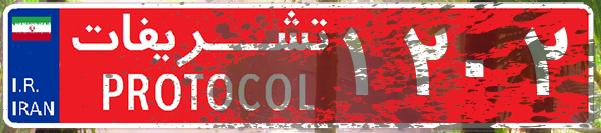0: (460, 20, 520, 115)
1: (340, 20, 400, 115)
2: (400, 20, 460, 115), (520, 20, 580, 115)
تشریفات: (60, 8, 340, 125)
